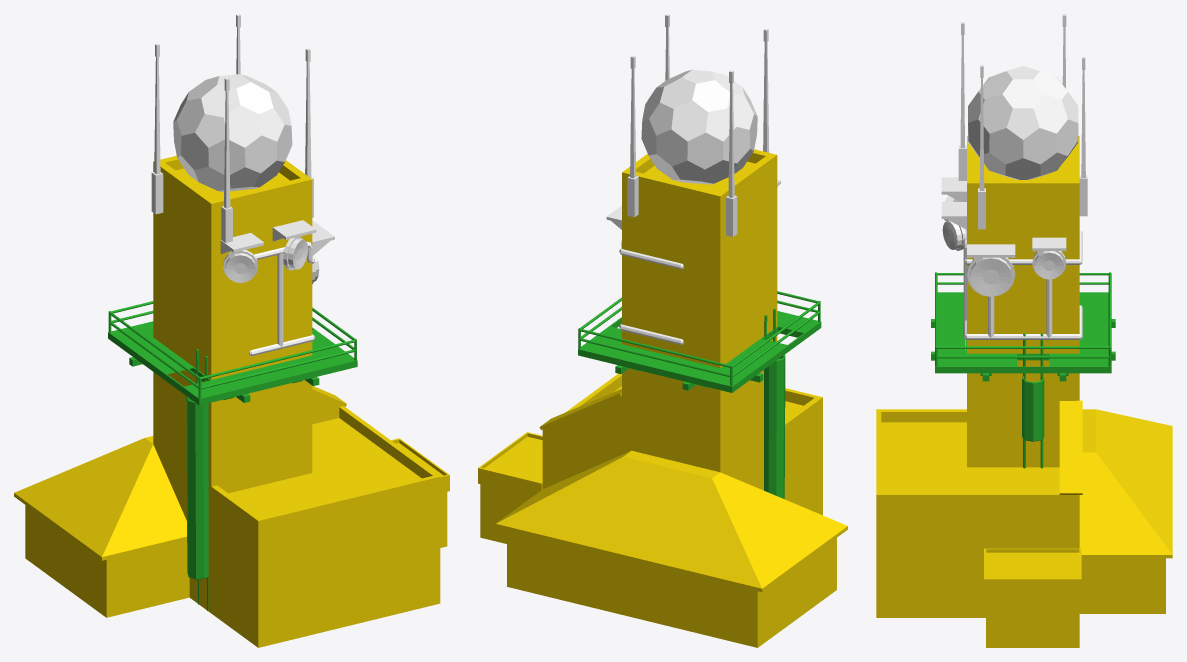
File: tower.fbx
3 views of the same model, side by side, from view 1: azimuth 30°, elevation 25°; view 2: azimuth 150°, elevation 25°; view 3: azimuth 270°, elevation 25° (orthographic). The views are drawn at different scales.
Visible parts, largest first — view 1: towerArchitecture, comsetics, catwalk; view 2: towerArchitecture, comsetics, catwalk; view 3: towerArchitecture, comsetics, catwalk.
Part boxes in pixels (<box>): towerArchitecture: <box>14,155,449,647</box>; comsetics: <box>151,14,334,356</box>; catwalk: <box>108,301,357,610</box>; towerArchitecture: <box>478,149,847,647</box>; comsetics: <box>606,14,780,344</box>; catwalk: <box>578,291,821,498</box>; towerArchitecture: <box>876,136,1172,647</box>; comsetics: <box>941,14,1087,339</box>; catwalk: <box>931,272,1115,468</box>.
Size of the model in its own units: 6888 by 10372 by 5406.
